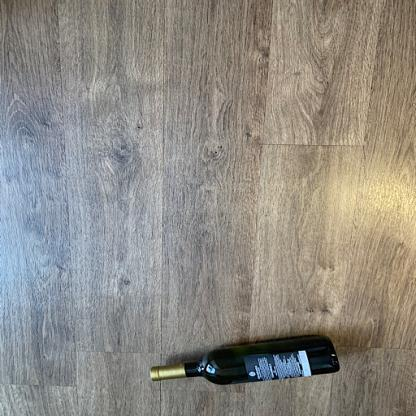trash: (150, 334, 344, 386)
